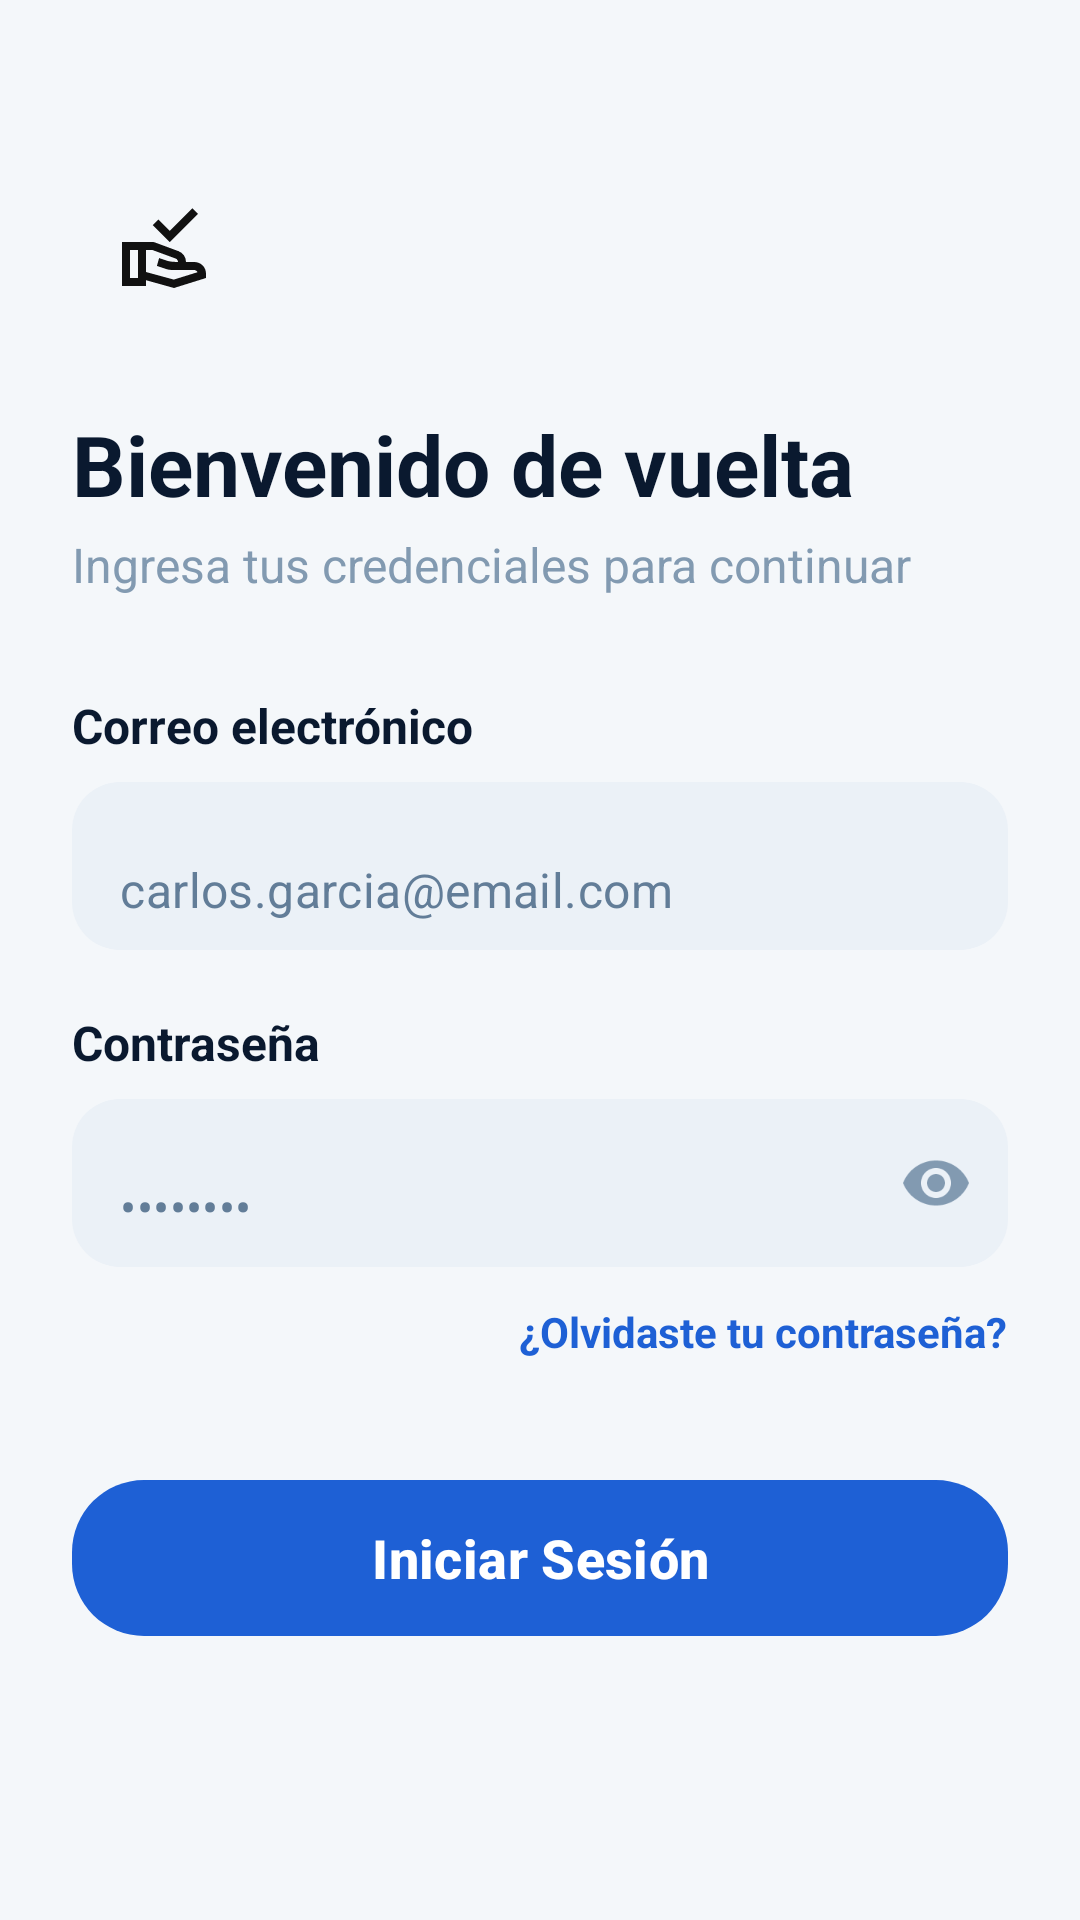

Point at icon controls on the screen. Image size 1080 × 1920, points as [x,y].
entrega: [164,248]
